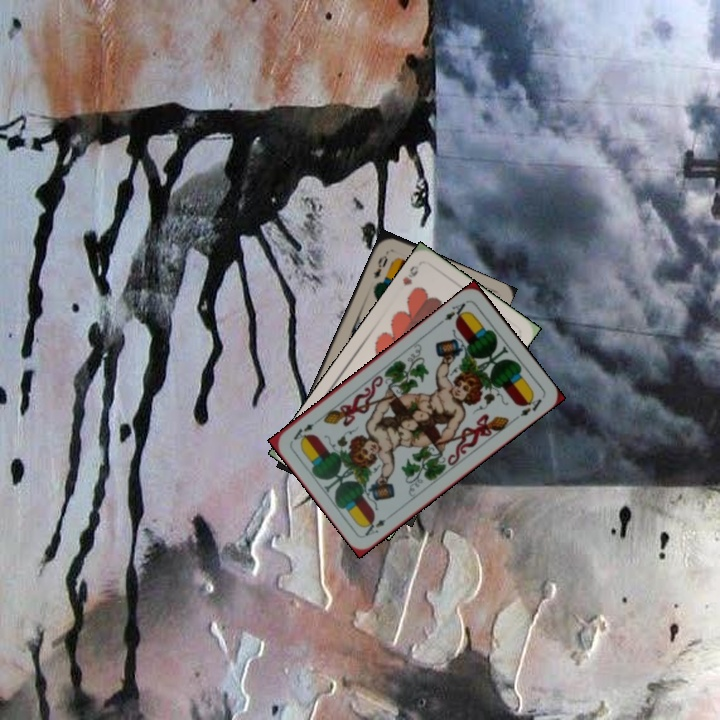EA: (360, 509, 396, 539), (435, 299, 471, 327)
EO: (369, 247, 391, 281)
H9: (398, 261, 421, 289)
